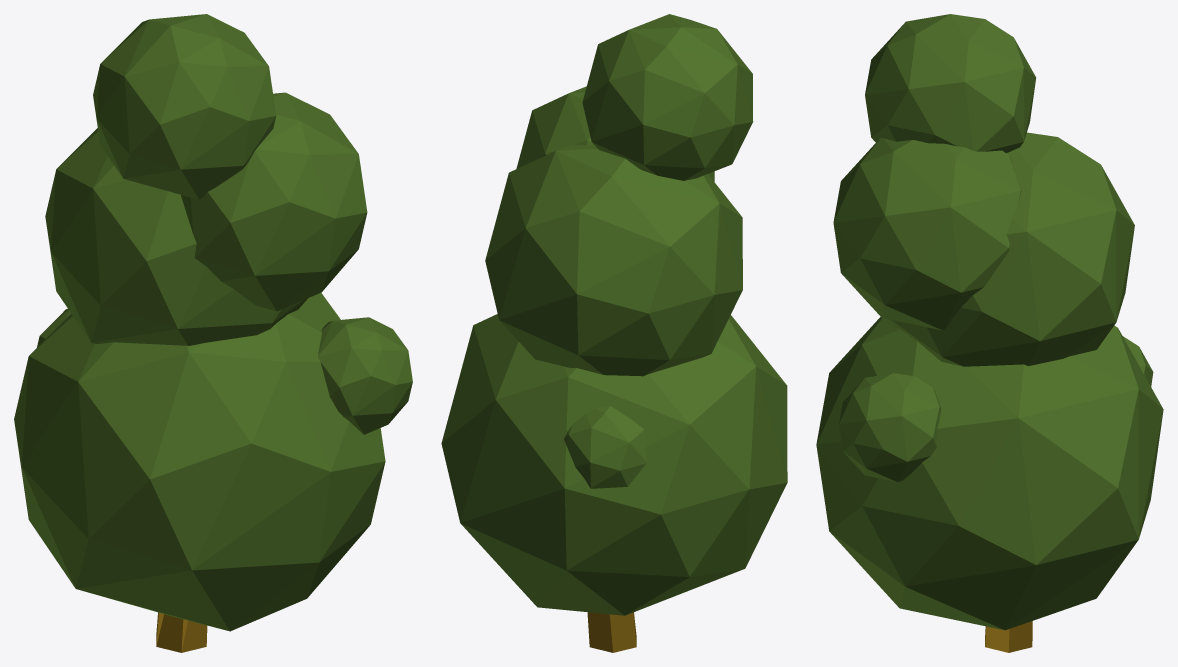
Rendered from bush02.fbx.
3 renders of one model, left to right at view 1: azimuth 30°, elevation 25°; view 2: azimuth 150°, elevation 25°; view 3: azimuth 270°, elevation 25°, orthographic. The views are drawn at different scales.
Parts seen in each view (by area): view 1: Leaves_v3_3, Leaves_v3_2, Leaves_v3_1, Leaves_v3, Leaves_v3_4, branch_low02; view 2: Leaves_v3_3, Leaves_v3_2, Leaves_v3_1, Leaves_v3_5, Leaves_v3, branch_low02; view 3: Leaves_v3_3, Leaves_v3_2, Leaves_v3, Leaves_v3_1, Leaves_v3_4, branch_low02.
Part boxes in pixels (x1,y1,x2,y2): Leaves_v3_3: (14,293,385,631); Leaves_v3_2: (45,128,307,345); Leaves_v3_1: (93,14,276,199); Leaves_v3: (181,92,367,311); Leaves_v3_4: (318,317,412,434); branch_low02: (156,612,207,652); Leaves_v3_3: (441,314,787,615); Leaves_v3_2: (485,144,742,376); Leaves_v3_1: (582,14,753,180); Leaves_v3_5: (564,406,646,488); Leaves_v3: (516,86,714,181); branch_low02: (587,612,636,652); Leaves_v3_3: (816,317,1163,630); Leaves_v3_2: (889,132,1134,366); Leaves_v3: (833,138,1021,330); Leaves_v3_1: (865,14,1036,153); Leaves_v3_4: (839,373,941,482); branch_low02: (985,621,1032,652).
Bounding box in the file's own units: 264 × 507 × 262.
